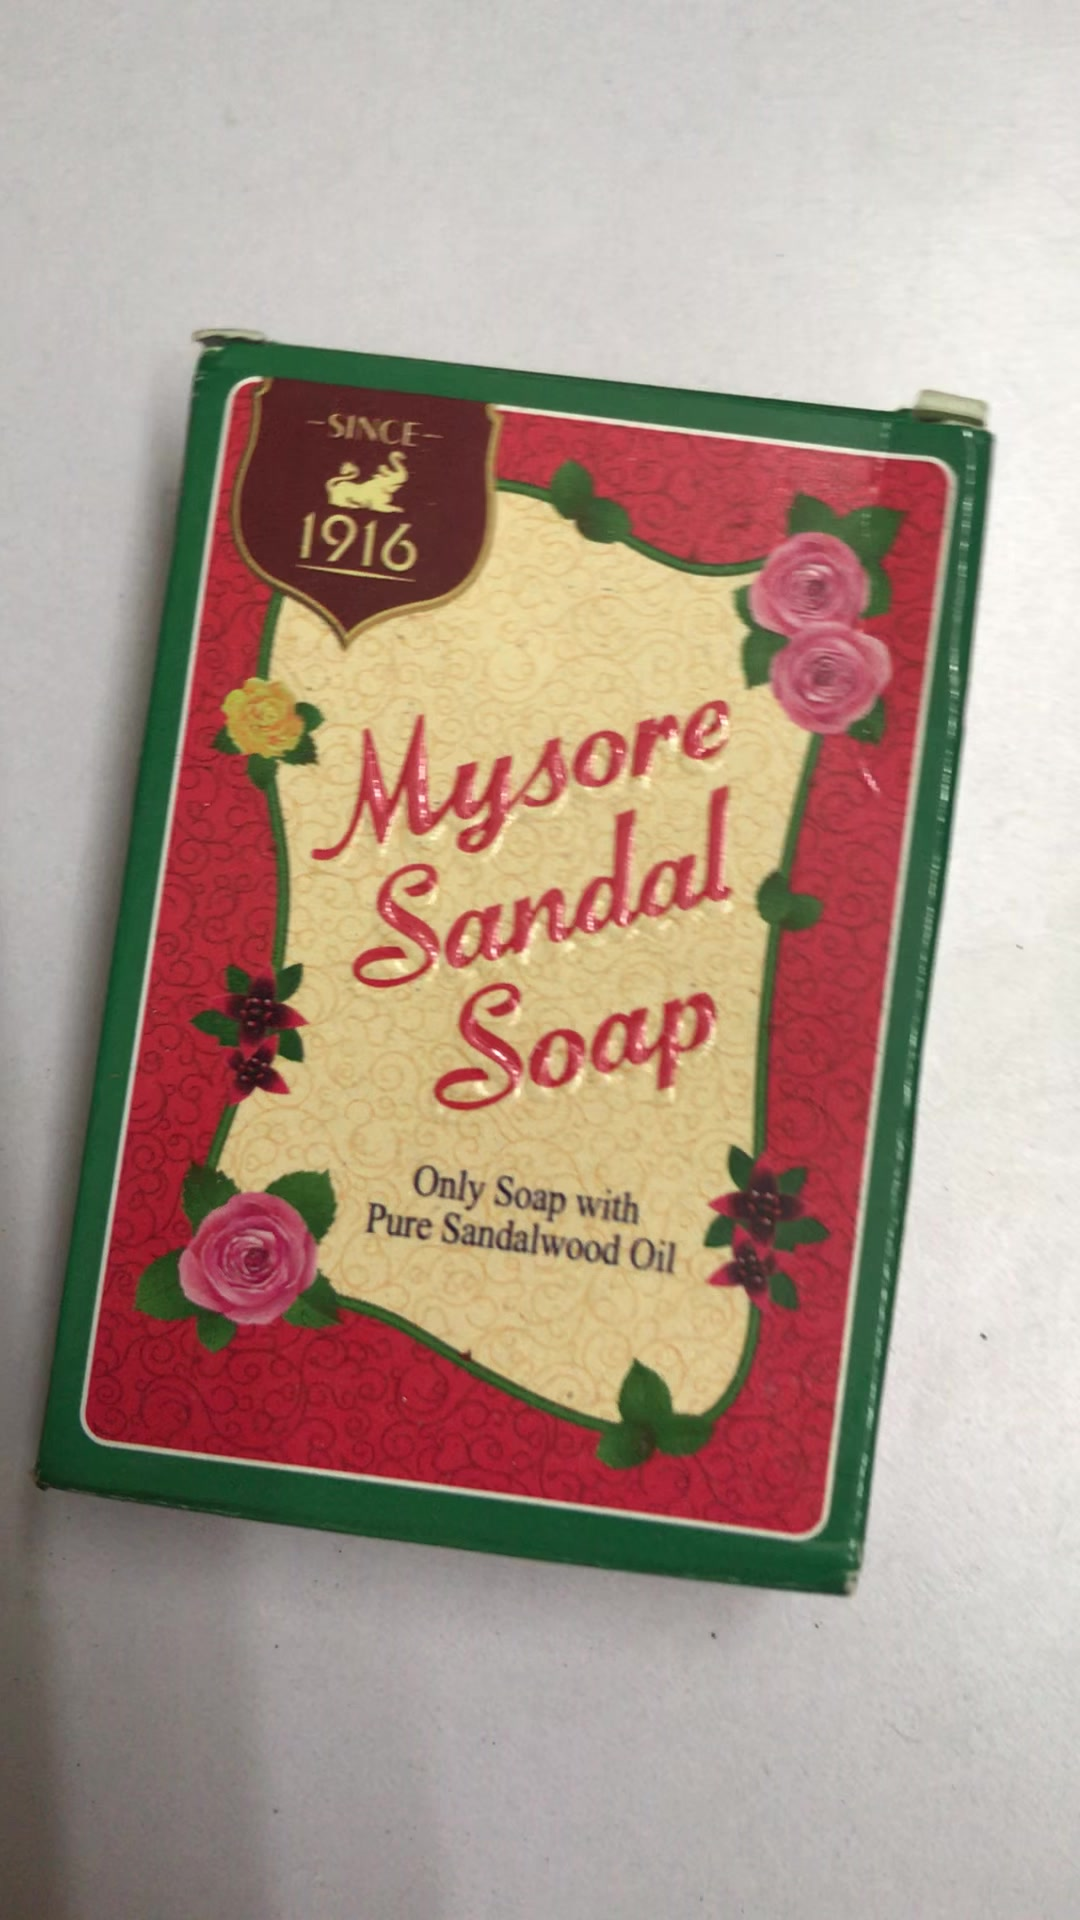mysore sandal soap: (28, 334, 990, 1596)
